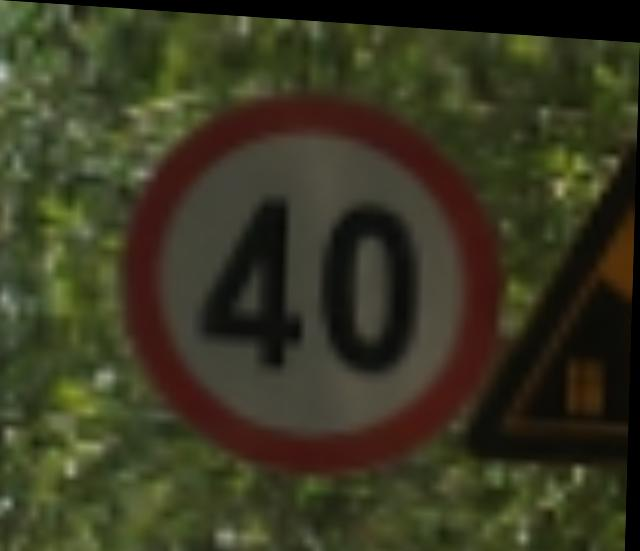limit40: (93, 70, 527, 493)
